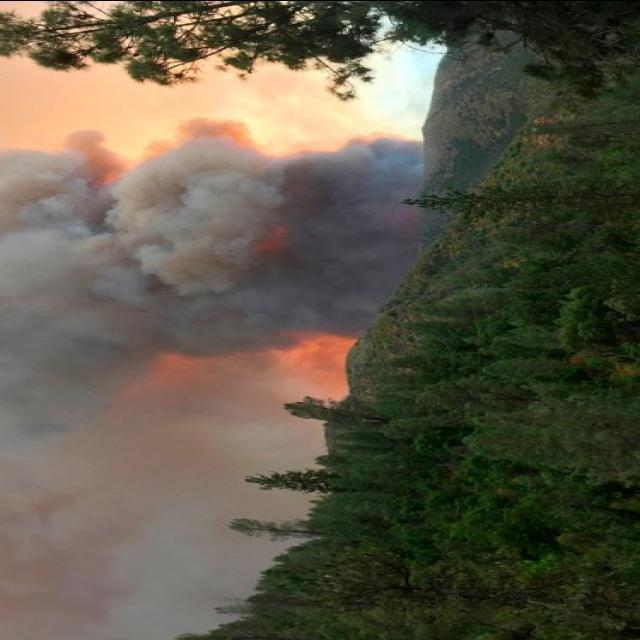Fire: (41, 8, 445, 154), (154, 330, 356, 418)
